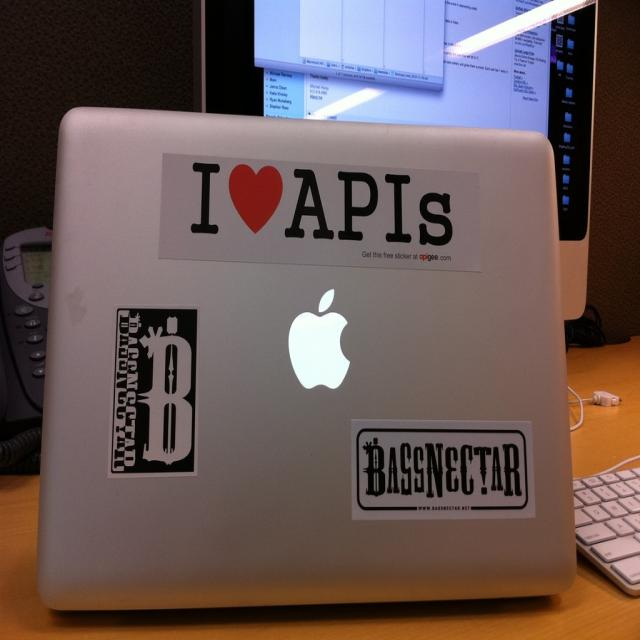apple: (283, 286, 356, 398)
